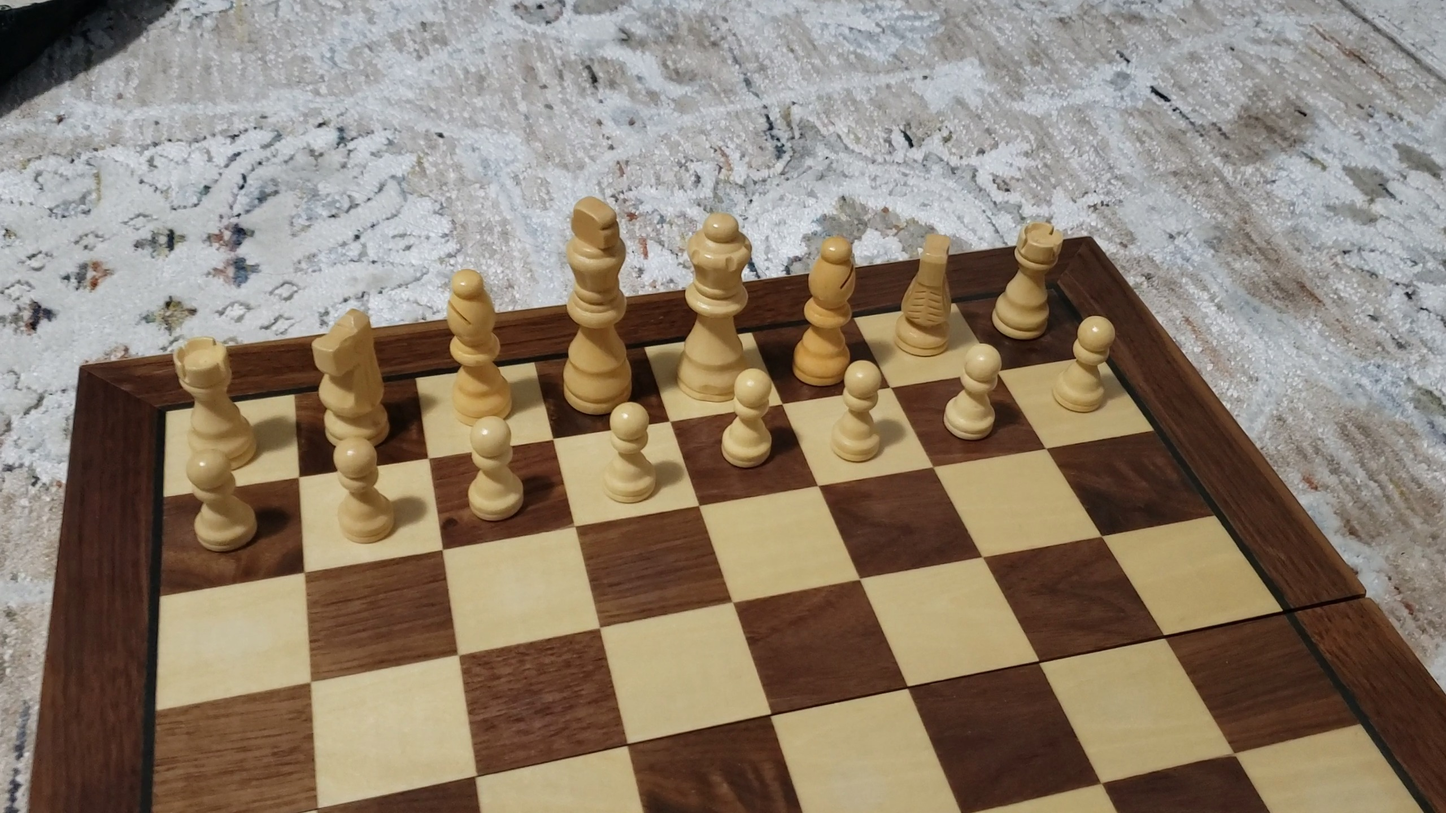white-bishop: (442, 265, 513, 429), (791, 231, 861, 390)
white-king: (556, 190, 635, 421)
white-knight: (297, 302, 405, 445), (891, 229, 956, 361)
white-pawn: (181, 447, 263, 558), (326, 439, 400, 549), (459, 413, 530, 527), (1047, 312, 1121, 418), (935, 340, 1008, 446), (595, 399, 664, 509), (713, 365, 782, 474), (825, 358, 891, 467)
white-queen: (672, 207, 756, 404)
white-rook: (171, 334, 261, 471), (988, 217, 1064, 344)
